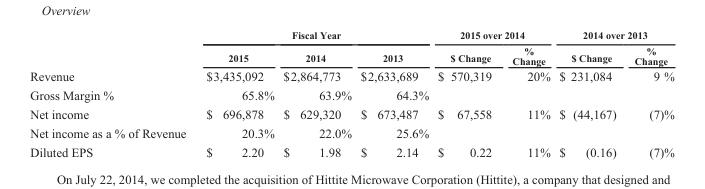table: (29, 29, 673, 158)
table column: (29, 29, 195, 158), (195, 29, 278, 158), (278, 29, 355, 158), (355, 29, 432, 158), (554, 29, 624, 158), (432, 29, 501, 158), (501, 29, 554, 158), (624, 29, 673, 158)
table column header: (29, 29, 673, 67)
table row: (29, 42, 673, 67), (29, 84, 673, 103), (29, 103, 673, 122), (29, 122, 673, 141), (29, 67, 673, 84), (29, 141, 673, 158), (29, 29, 673, 42)
table spanning cell: (195, 29, 432, 42), (432, 29, 554, 42), (554, 29, 673, 42)
